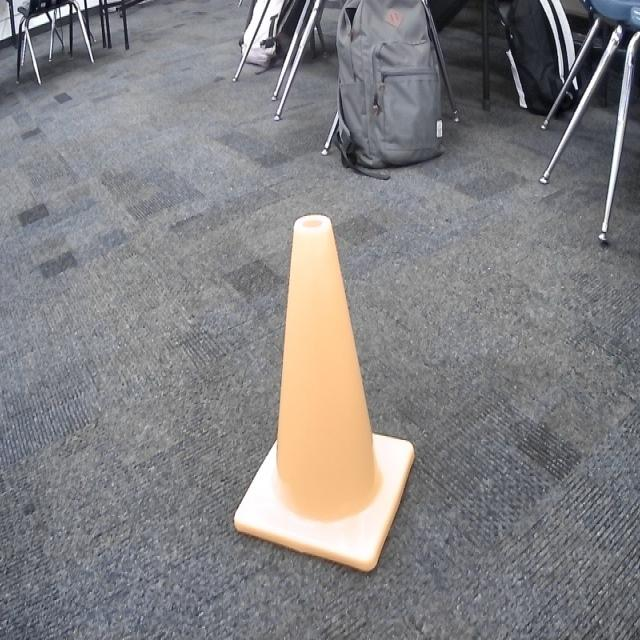cone: (228, 208, 419, 584)
